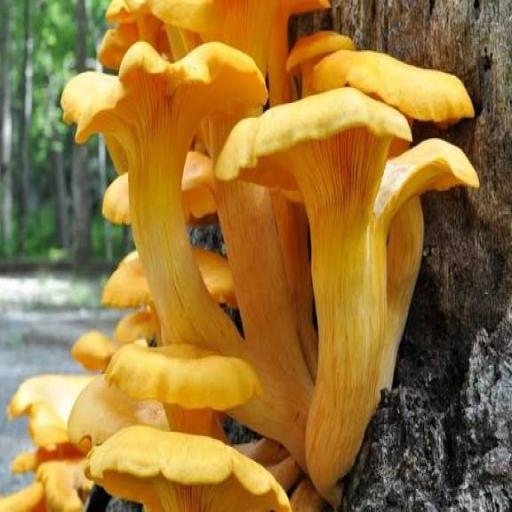Jack O Lantern Mushroom: (213, 86, 417, 487), (52, 41, 271, 359), (88, 424, 292, 512), (107, 334, 260, 450), (96, 0, 336, 62), (314, 32, 470, 126), (66, 354, 173, 446), (10, 371, 104, 448), (283, 27, 343, 94)
